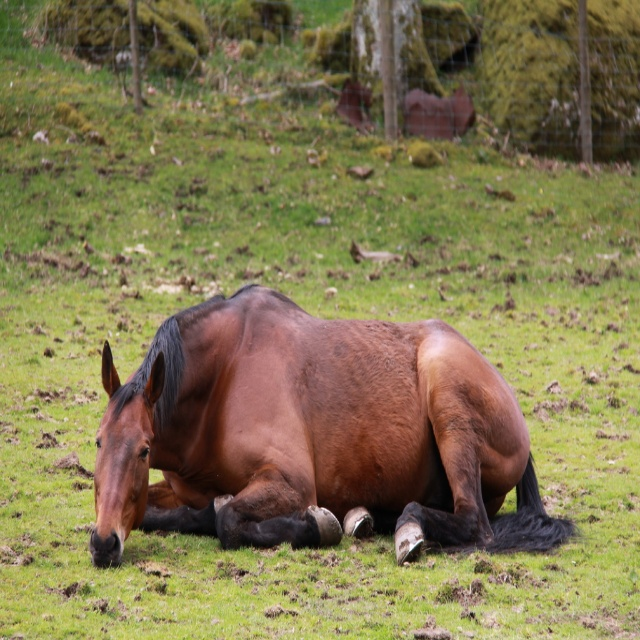Horse: (87, 283, 574, 571)
